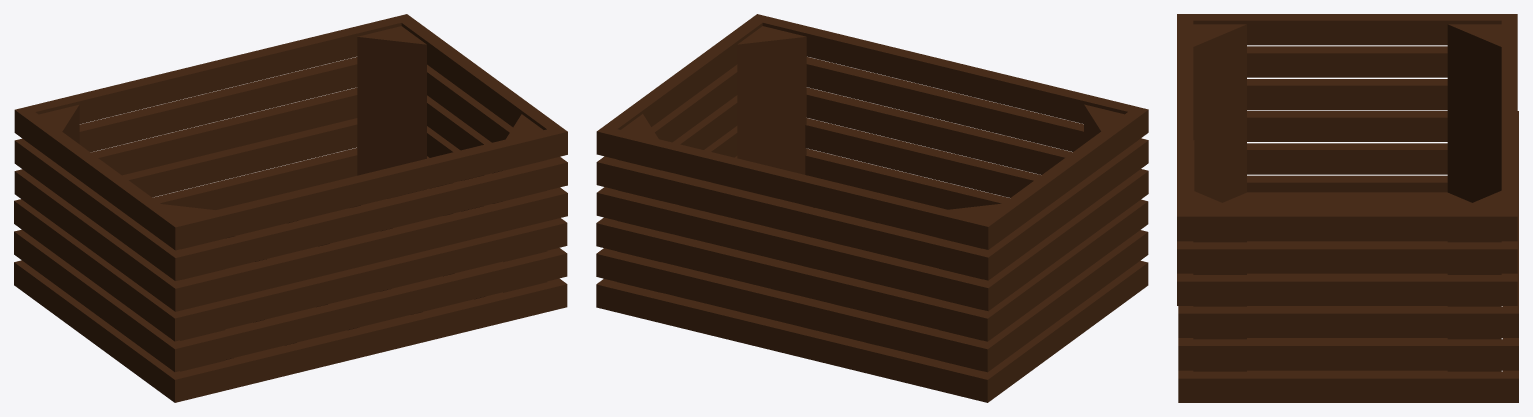
The model's file is HighCrate4Slats.fbx.
3 views of the same model, side by side, from view 1: azimuth 30°, elevation 25°; view 2: azimuth 150°, elevation 25°; view 3: azimuth 270°, elevation 25° (orthographic). The views are drawn at different scales.
Parts seen in each view (by area): view 1: HighCrate4Slats; view 2: HighCrate4Slats; view 3: HighCrate4Slats.
Part boxes in pixels (<box>): HighCrate4Slats: <box>14,14,567,402</box>; HighCrate4Slats: <box>596,14,1148,402</box>; HighCrate4Slats: <box>1177,14,1518,402</box>.
Bounding box in the file's own units: 44.32 × 62.22 × 26.66.
